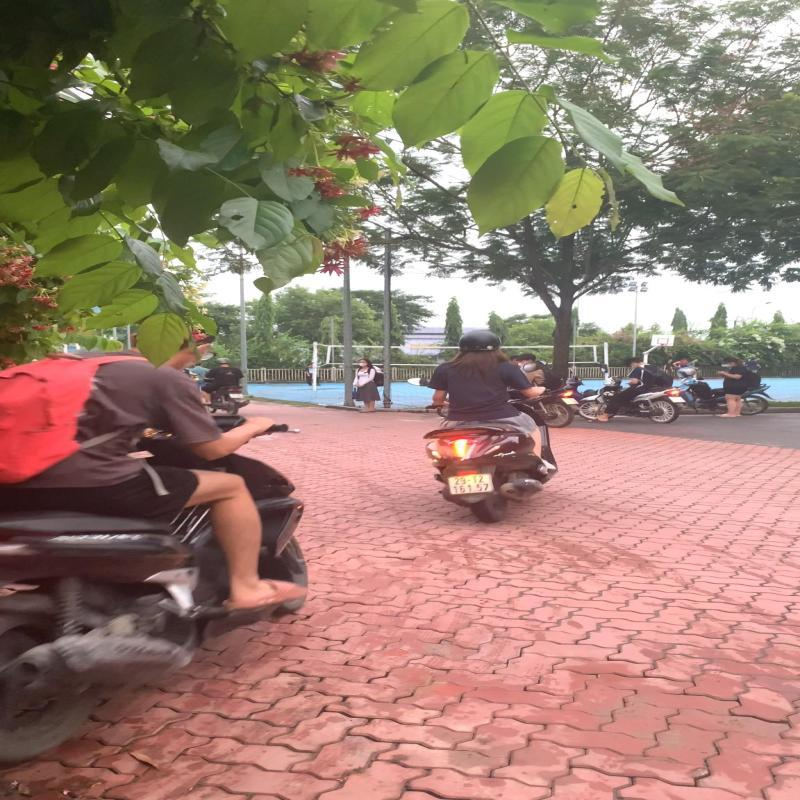helmet: (458, 328, 503, 352)
licenseplate: (447, 472, 495, 496)
motorcyclist: (420, 328, 563, 524)
